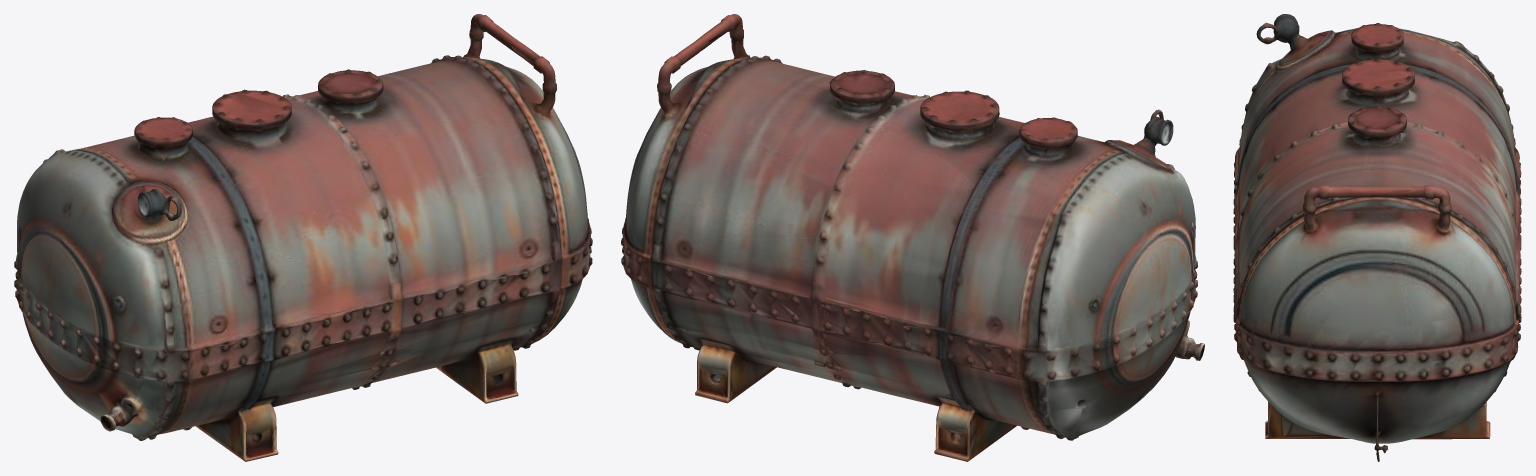
File: fuel-tank.glb
3 renders of one model, left to right at view 1: azimuth 30°, elevation 25°; view 2: azimuth 150°, elevation 25°; view 3: azimuth 270°, elevation 25°, orthographic. The views are drawn at different scales.
Size of the model in its own units: 1.9 by 1.06 by 0.9932.
1 material, 1 textured.
